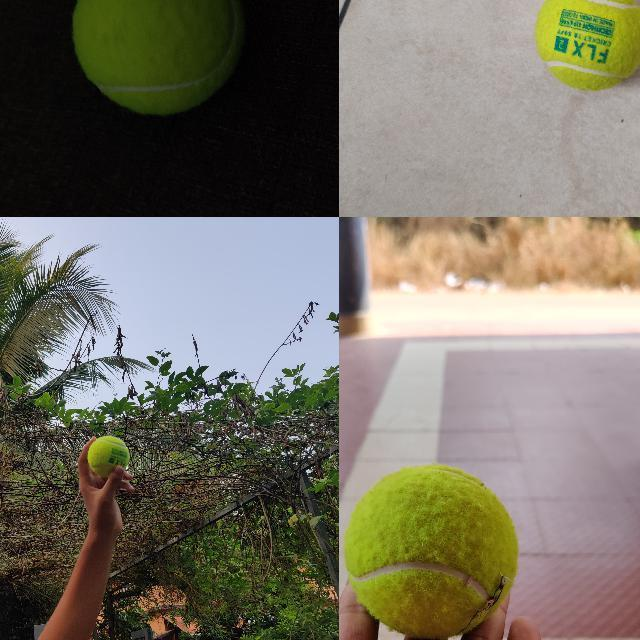tennis-ball: (342, 464, 519, 639), (70, 0, 246, 115), (534, 0, 639, 91), (86, 435, 130, 478)
